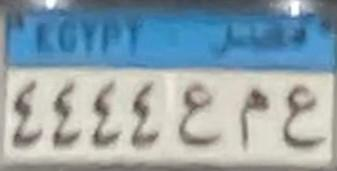4: (123, 66, 165, 156), (42, 71, 83, 162), (8, 65, 41, 155), (89, 75, 121, 151)
ع: (174, 73, 229, 155), (281, 64, 323, 154)
م: (235, 72, 281, 156)
